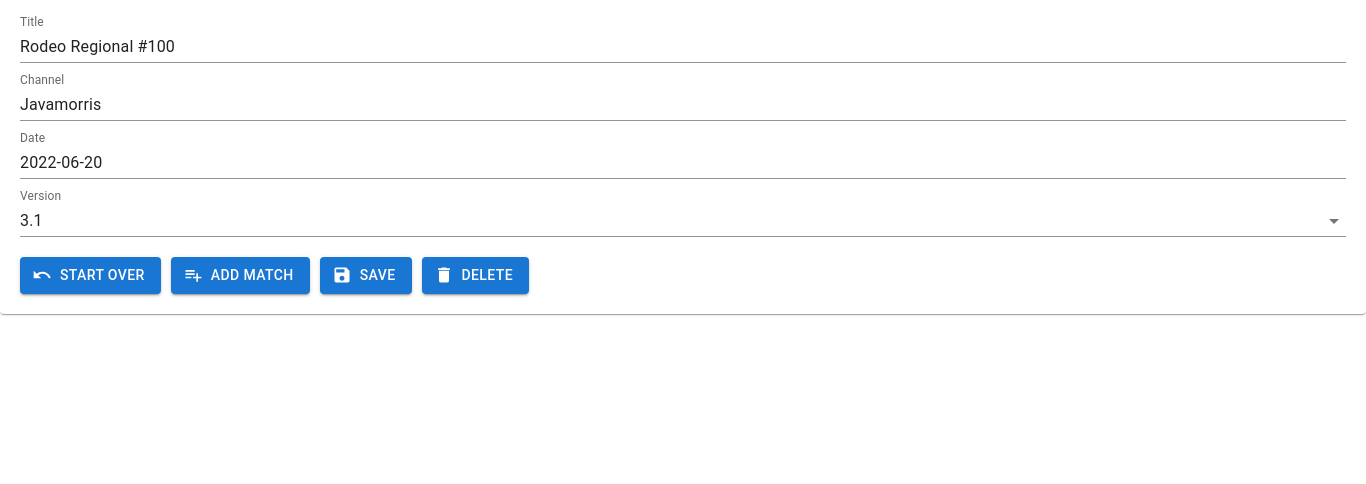
Timestamps › can duplicate a timestamp
The image size is (1366, 484).
Click the button "Add Match" at [240, 275], box [171,257,310,294]
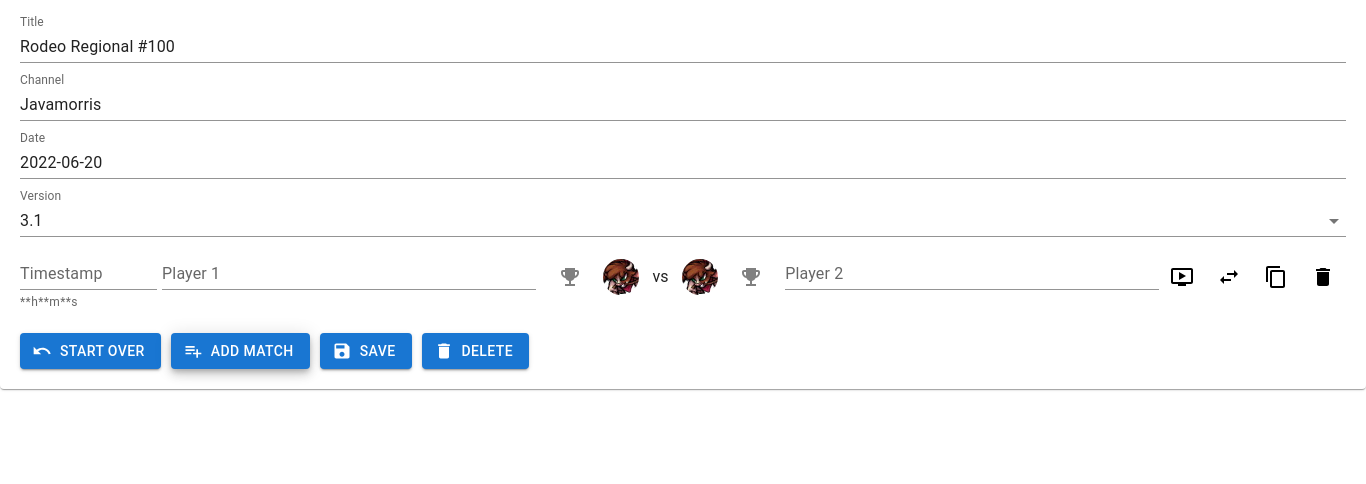
Check: the field labelled "Timestamp" is shown
Type "00h12m12s" into the field labelled "Timestamp" at [89, 274], box [20,258,157,290]
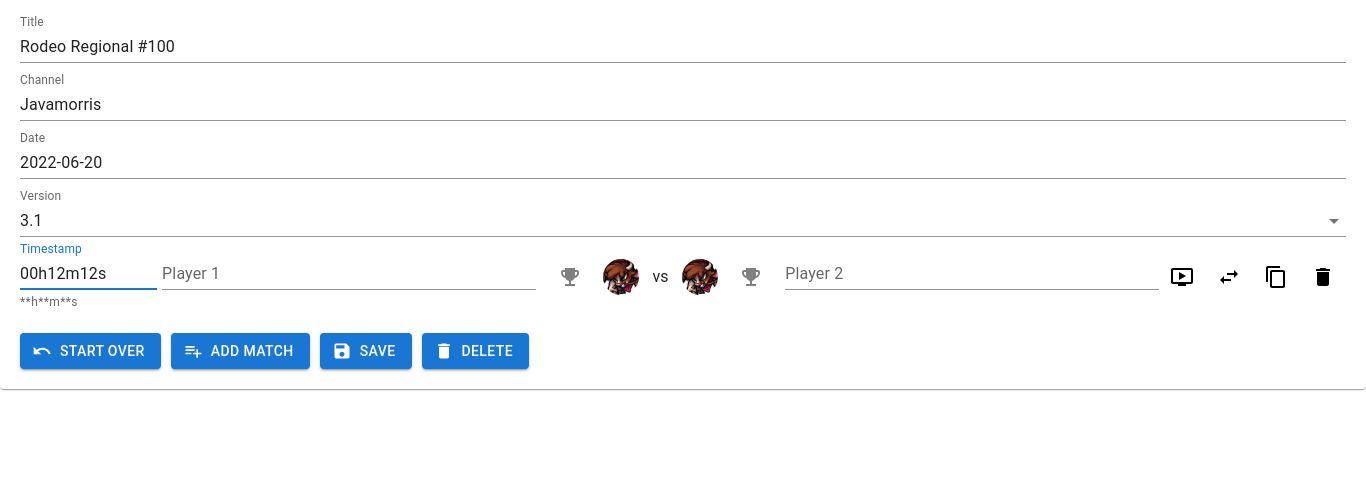
Type "player 1" into the element with test id "player1-textfield" at [334, 274], box [162,258,506,289]
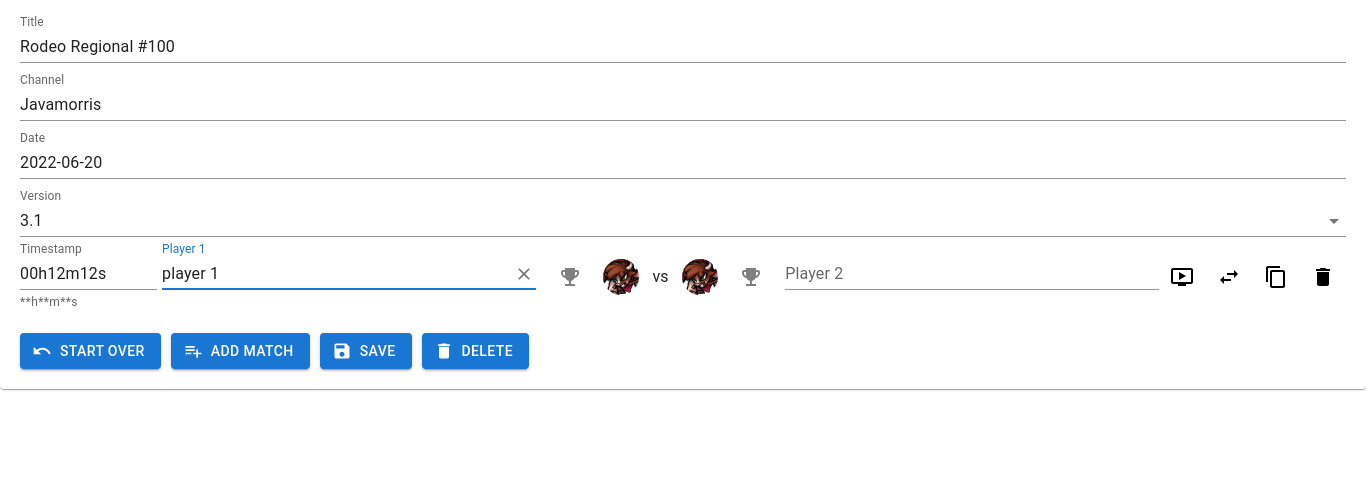
Type "player 2" into the dropdown labelled "Player 2" at [957, 274], box [785,258,1129,289]
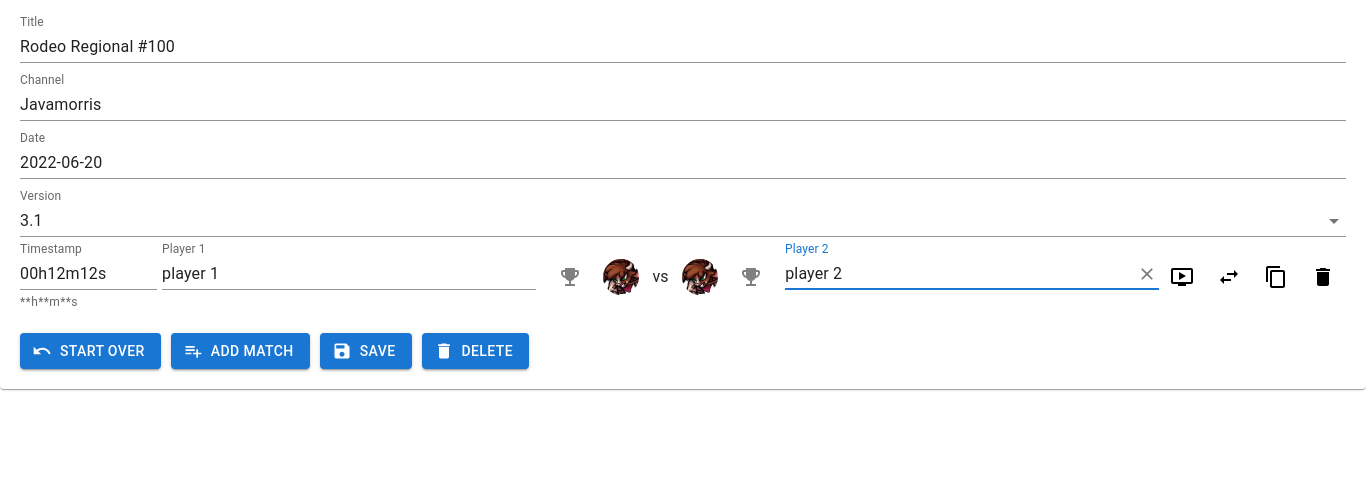
Click the button named "Duplicate" at [1276, 278], box [1252,258,1299,298]
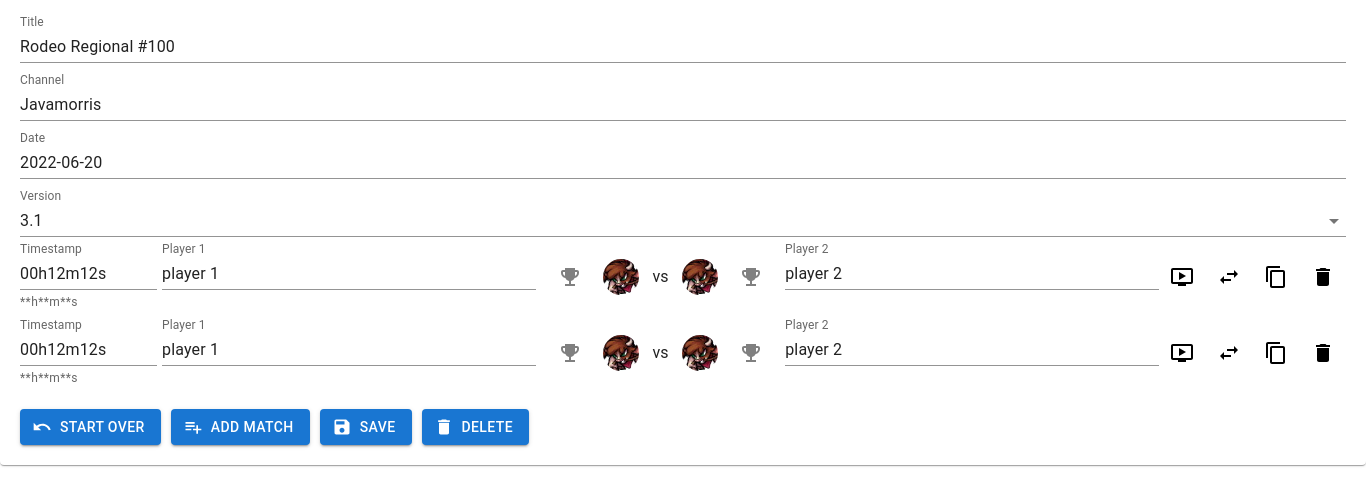
Check: the number of elements with test id "timestamp-row" is 2, box [20,242,1346,313]; [20,318,1346,389]
Check: the 2nd field labelled "Timestamp" holds "00h12m12s", box [20,334,157,366]
Check: the 2nd dropdown labelled "Player 1" holds "player 1", box [162,334,506,365]
